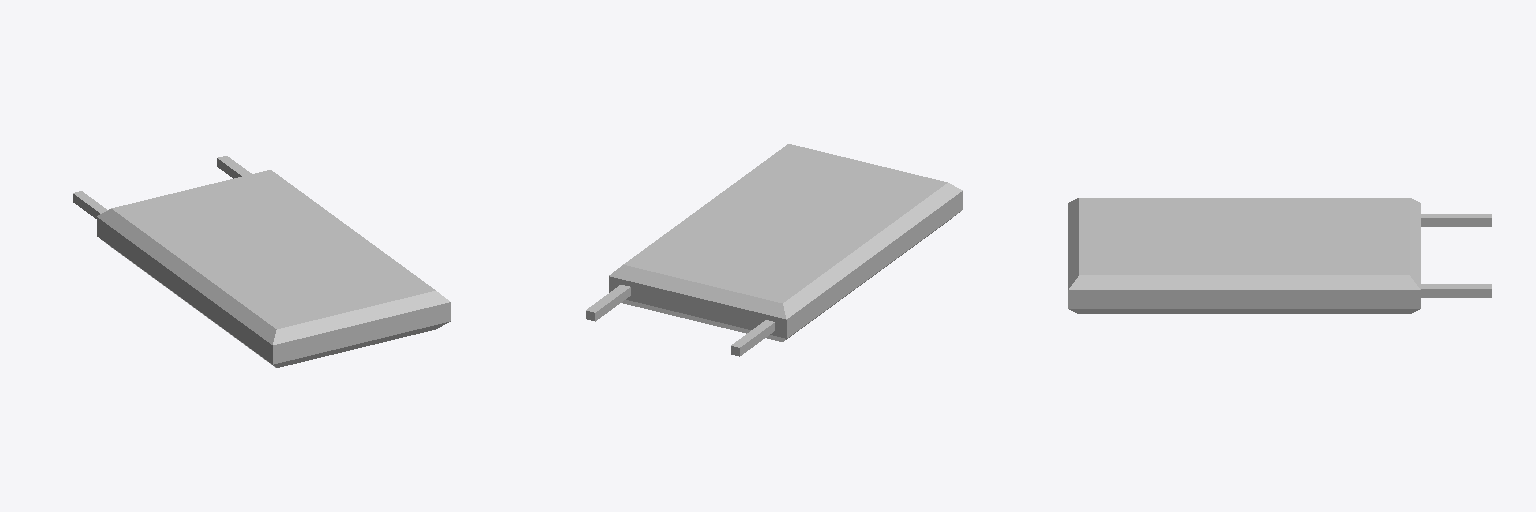
Rendered from taserGun.obj.
3 renders of one model, left to right at view 1: azimuth 30°, elevation 25°; view 2: azimuth 150°, elevation 25°; view 3: azimuth 270°, elevation 25°, orthographic.
Parts seen in each view (by area): view 1: pCube1; view 2: pCube1; view 3: pCube1.
Boxes of the visible parts, x1=… form: pCube1: x1=73, y1=156, x2=450, y2=367; pCube1: x1=586, y1=144, x2=962, y2=356; pCube1: x1=1068, y1=198, x2=1491, y2=313.
Size of the model in its own units: 16.21 by 3.38 by 33.33.